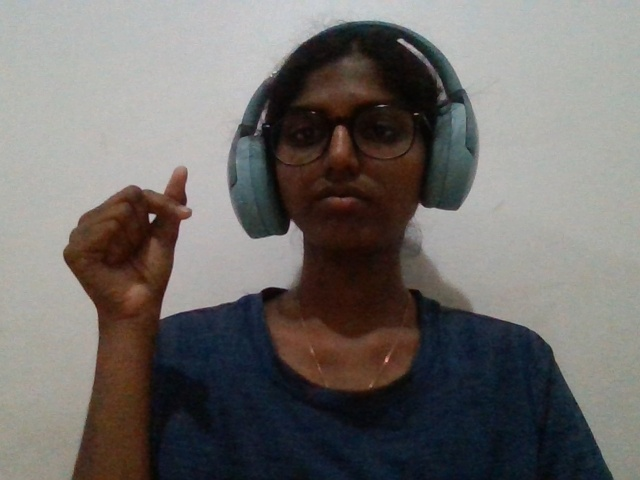G: (53, 152, 214, 472)
